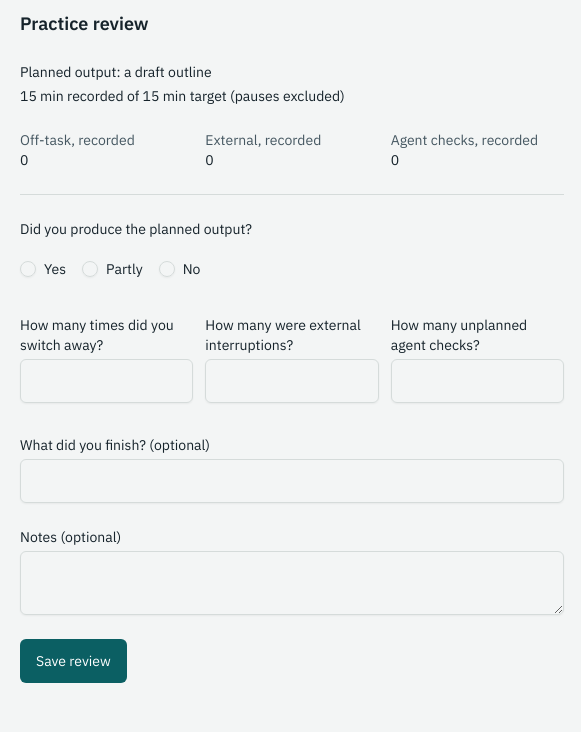
it: PracticeReview › missing outputQuality blocks submit with Choose Yes, Partly or No and no request is sent
Expected: the radio button named "Yes" next to "Yes" is shown, x1=20 y1=261 x2=36 y2=277
Click the button "Save review": (73, 661) x1=20 y1=639 x2=127 y2=683
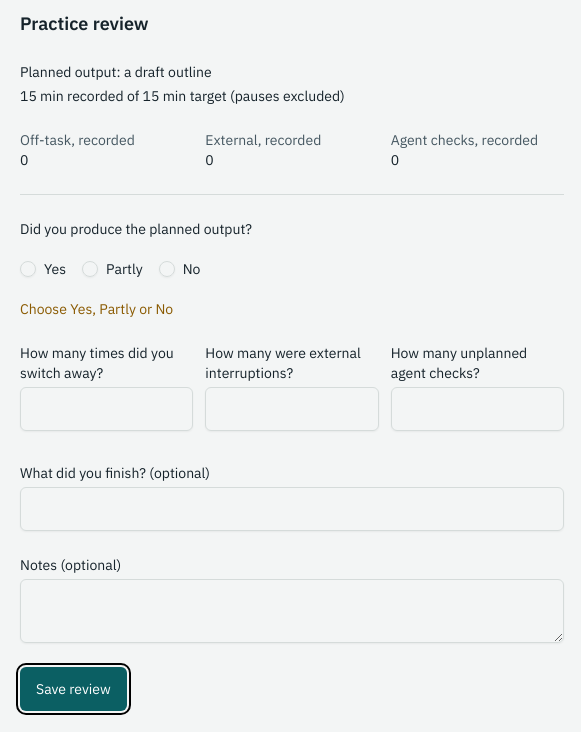
Expected: the text "Choose Yes, Partly or No" is shown, x1=20 y1=300 x2=173 y2=318
